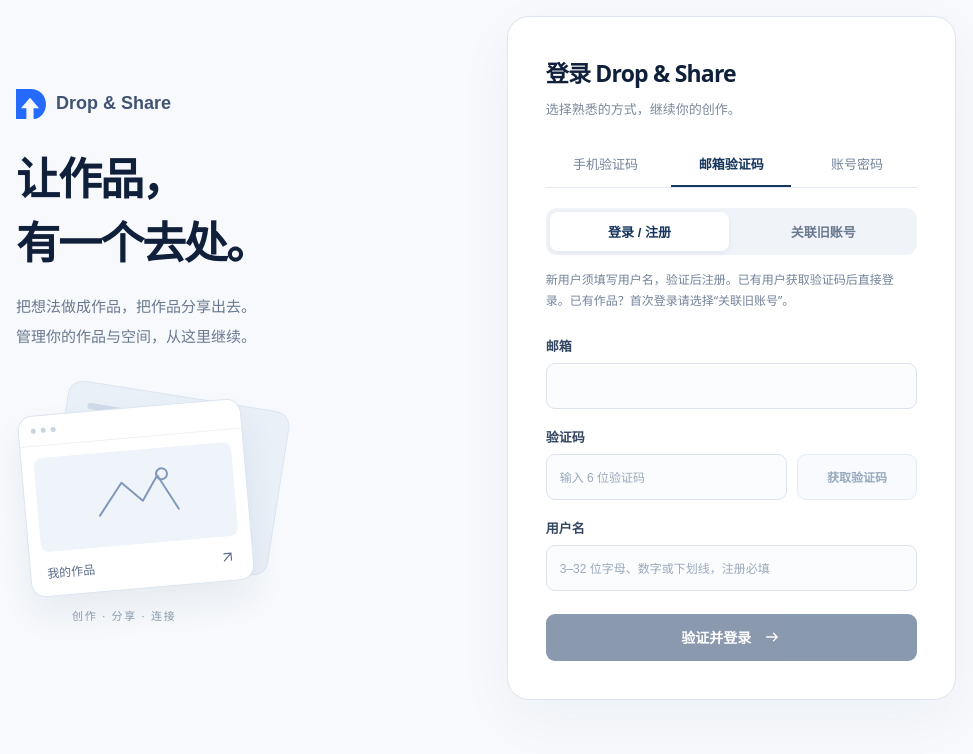
Test: email authentication › discards a verification challenge when the email changes
The image size is (973, 754).
In the field labelled "邮箱": (731, 386) [546,363,917,409], type "first@example.com"
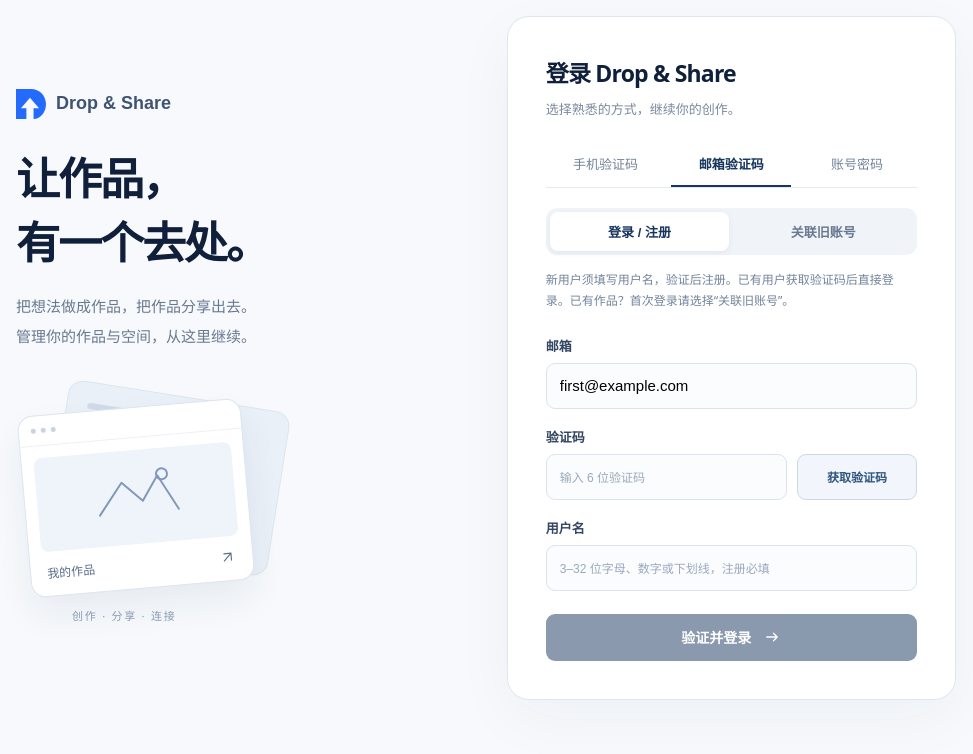
Click the button "获取验证码": (857, 477) [797,454,917,500]
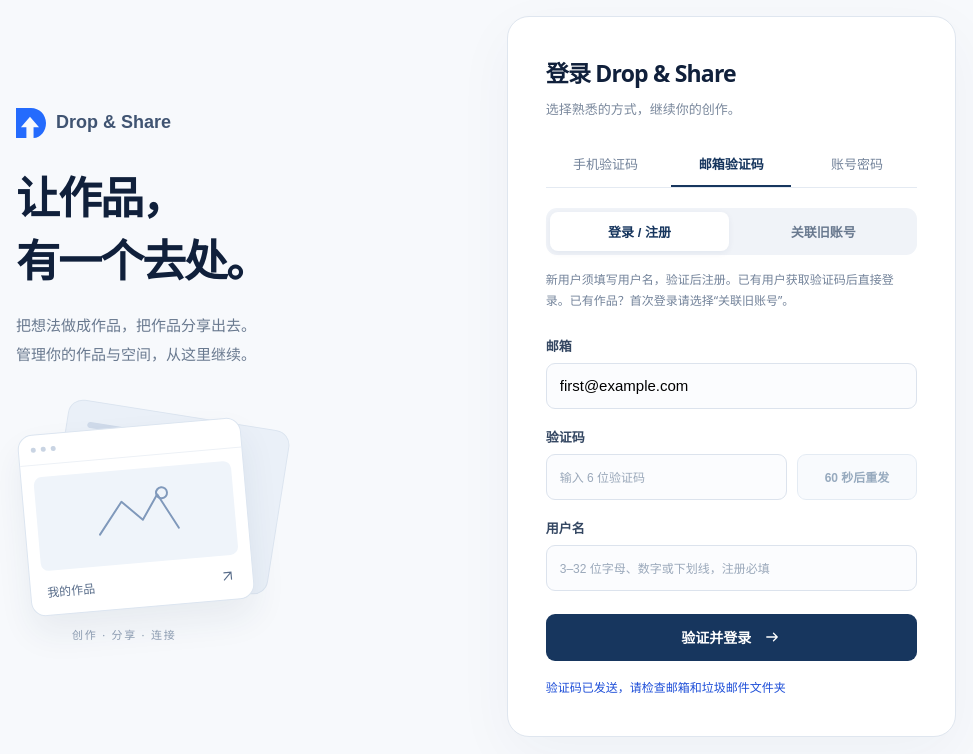
Now the button "验证并登录" is enabled, box [546,614,917,661]
Replace the text in the field labelled "邮箱" with "other@example.com": (731, 386) [546,363,917,409]
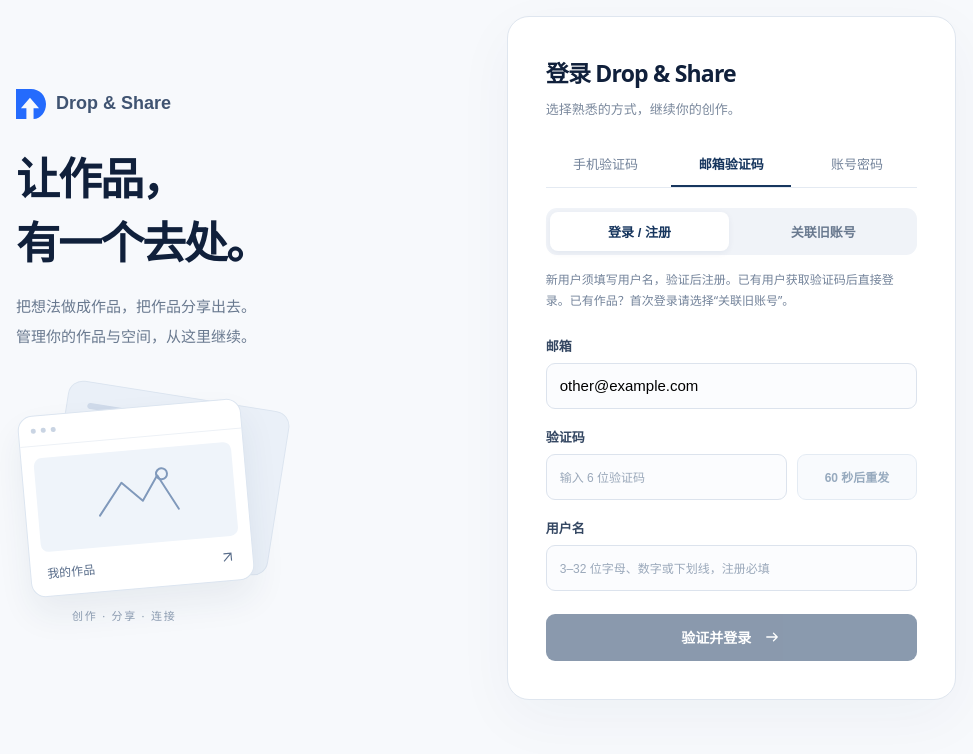
Now the button "验证并登录" is disabled, box [546,614,917,661]
